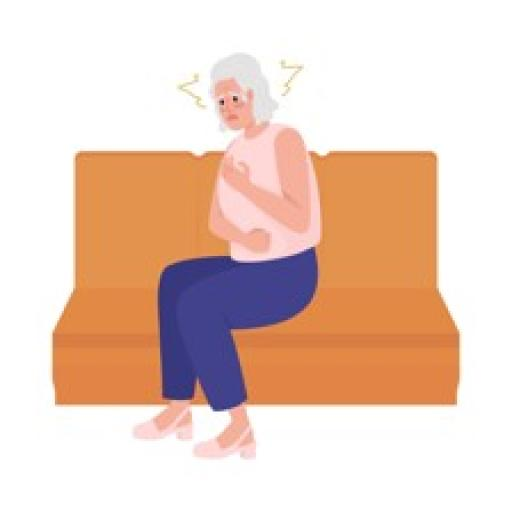human: (120, 50, 336, 474)
